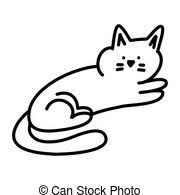cat: (7, 9, 170, 162)
